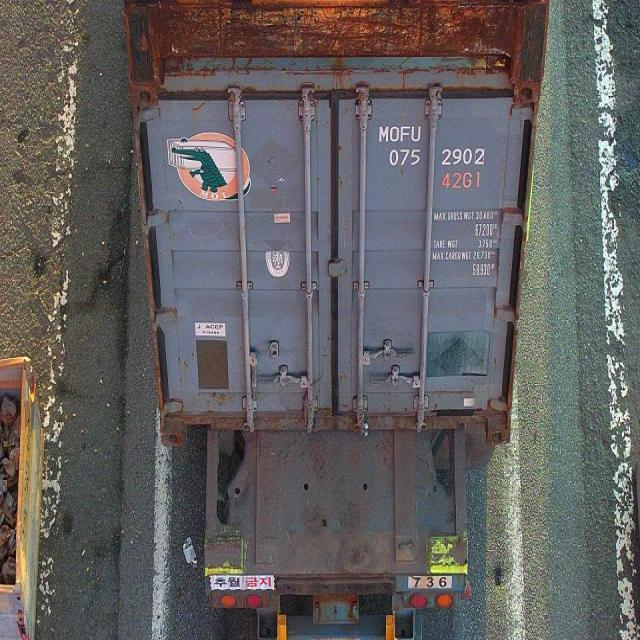ISO: (442, 172, 482, 192)
container_number: (376, 118, 488, 164)
